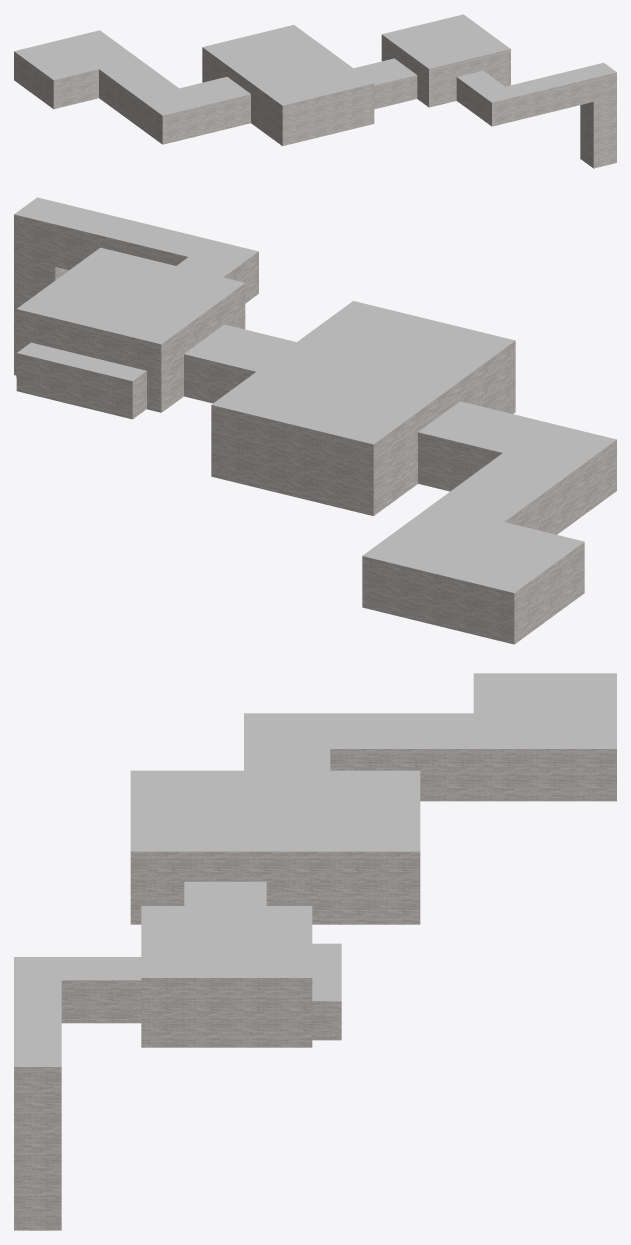
The model's file is ASDQAWQDASD12TW312T1RT345.fbx.
3 renders of one model, top to bottom at view 1: azimuth 30°, elevation 25°; view 2: azimuth 150°, elevation 25°; view 3: azimuth 270°, elevation 25°, orthographic. The views are drawn at different scales.
Parts seen in each view (by area): view 1: Celling, Celling.001; view 2: Celling.001, Celling; view 3: Celling.001, Celling.
Boxes of the visible parts, box(x1,y1,x2,y2) form: Celling: box(14, 34, 616, 168); Celling.001: box(14, 14, 616, 115); Celling.001: box(14, 197, 616, 592); Celling: box(14, 214, 616, 644); Celling.001: box(14, 673, 616, 1066); Celling: box(14, 749, 616, 1230).
Size of the model in its own units: 3825 by 899 by 2536.
